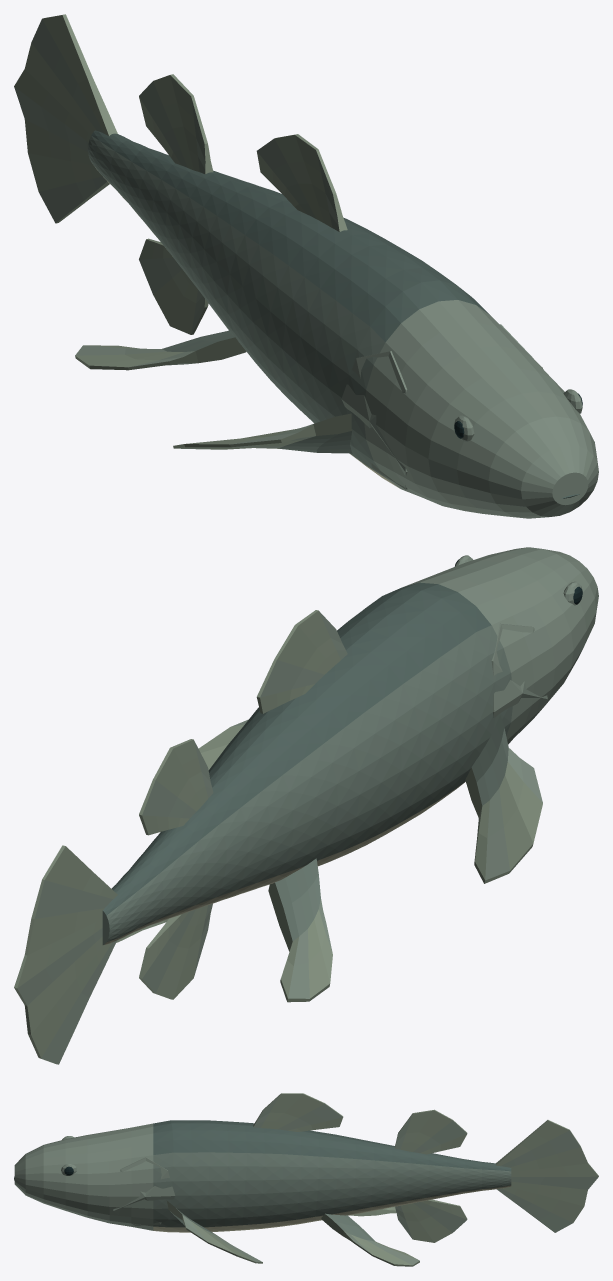
The picture shows the model from 3 angles, top to bottom: view 1: azimuth 30°, elevation 25°; view 2: azimuth 150°, elevation 25°; view 3: azimuth 270°, elevation 25°; orthographic projection. The views are drawn at different scales.
Parts seen in each view (by area): view 1: 01-continuous-head-trunk-peduncle, 05-single-integrated-caudal, 02-first-dorsal, 03-second-dorsal, L-pelvic-fleshy-fin, 04-anal, L-pectoral-fleshy-fin, L-subtle-opercular-cheek; view 2: 01-continuous-head-trunk-peduncle, 05-single-integrated-caudal, L-pectoral-fleshy-fin, L-pelvic-fleshy-fin, 02-first-dorsal, 03-second-dorsal, 04-anal, L-subtle-opercular-cheek, R-pectoral-fleshy-fin; view 3: 01-continuous-head-trunk-peduncle, 05-single-integrated-caudal, 02-first-dorsal, 03-second-dorsal, 04-anal, R-pelvic-fleshy-fin, R-pectoral-fleshy-fin, R-subtle-opercular-cheek.
Boxes of the visible parts, box(x1,y1,x2,y2) form: 01-continuous-head-trunk-peduncle: box(88, 130, 598, 518); 05-single-integrated-caudal: box(14, 14, 117, 223); 02-first-dorsal: box(256, 134, 347, 231); 03-second-dorsal: box(139, 74, 213, 174); L-pelvic-fleshy-fin: box(75, 330, 246, 370); 04-anal: box(139, 238, 208, 334); L-pectoral-fleshy-fin: box(173, 413, 352, 453); L-subtle-opercular-cheek: box(341, 351, 407, 489); 01-continuous-head-trunk-peduncle: box(102, 547, 598, 945); 05-single-integrated-caudal: box(14, 845, 117, 1064); L-pectoral-fleshy-fin: box(465, 715, 542, 883); L-pelvic-fleshy-fin: box(268, 858, 332, 1002); 02-first-dorsal: box(256, 610, 347, 713); 03-second-dorsal: box(139, 739, 213, 835); 04-anal: box(139, 903, 212, 999); L-subtle-opercular-cheek: box(491, 623, 547, 744); R-pectoral-fleshy-fin: box(198, 719, 248, 769); 01-continuous-head-trunk-peduncle: box(14, 1120, 511, 1232); 05-single-integrated-caudal: box(496, 1120, 598, 1232); 02-first-dorsal: box(253, 1093, 343, 1131); 03-second-dorsal: box(395, 1109, 467, 1154); 04-anal: box(395, 1199, 467, 1242); R-pelvic-fleshy-fin: box(321, 1213, 419, 1266); R-pectoral-fleshy-fin: box(166, 1200, 262, 1263); R-subtle-opercular-cheek: box(113, 1157, 175, 1225).
Bounding box in the file's own units: 0.0582 × 0.045 × 0.1601.
